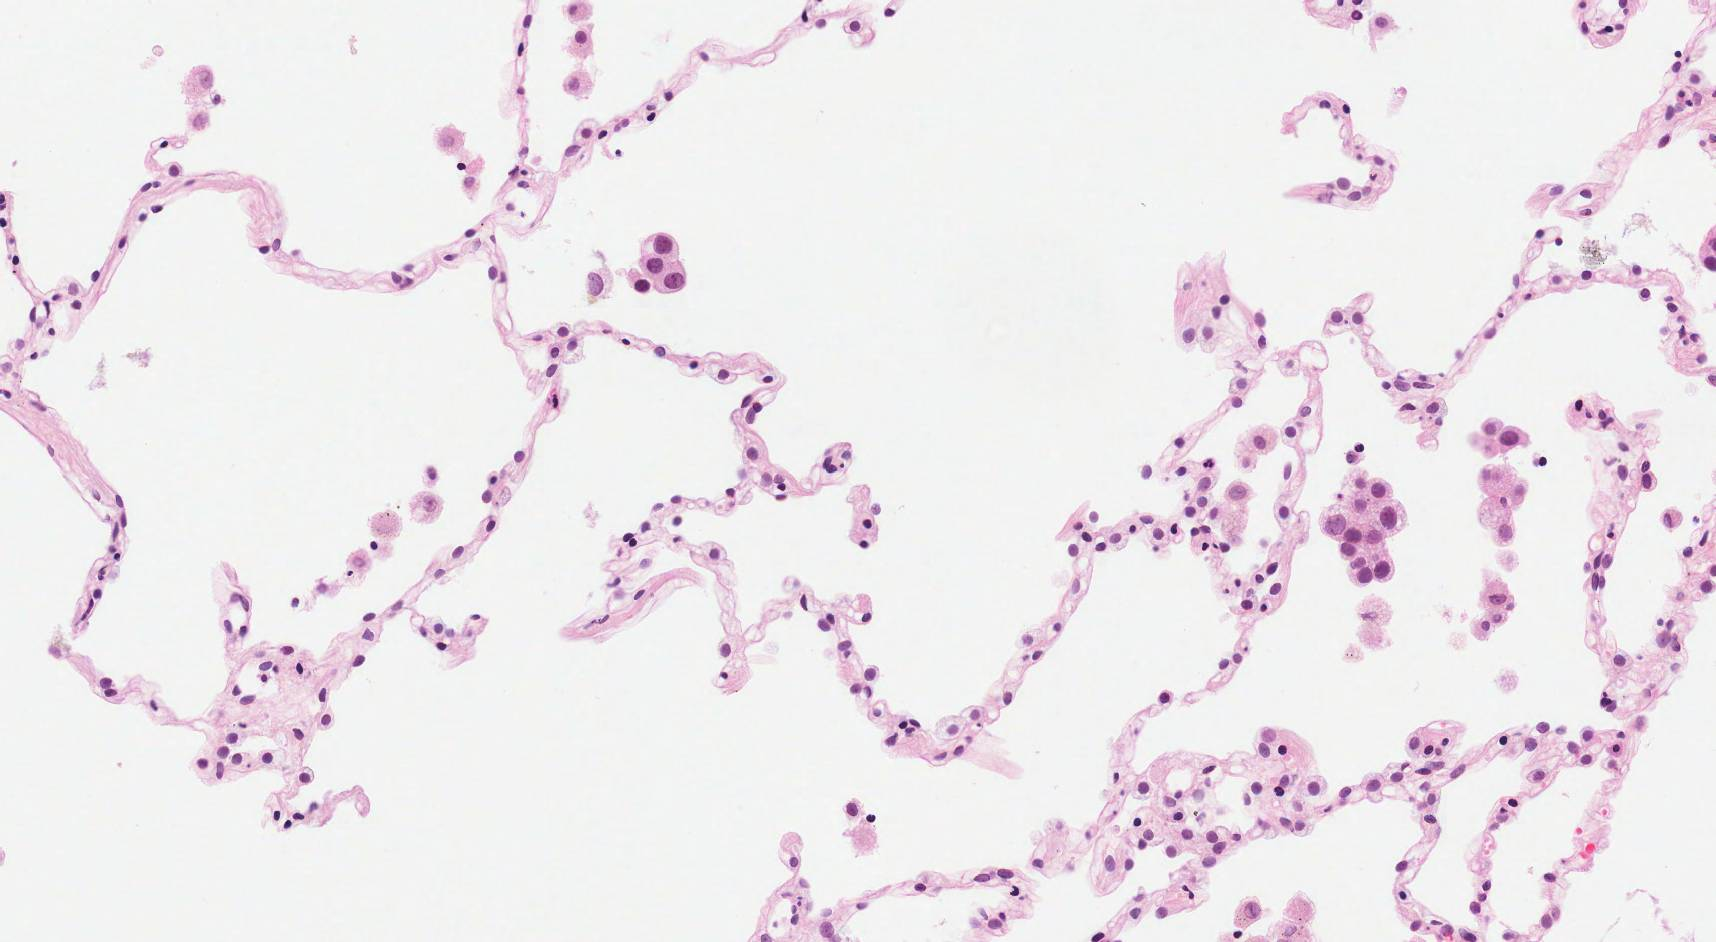stas: (1319, 467, 1408, 587), (629, 234, 690, 293)
